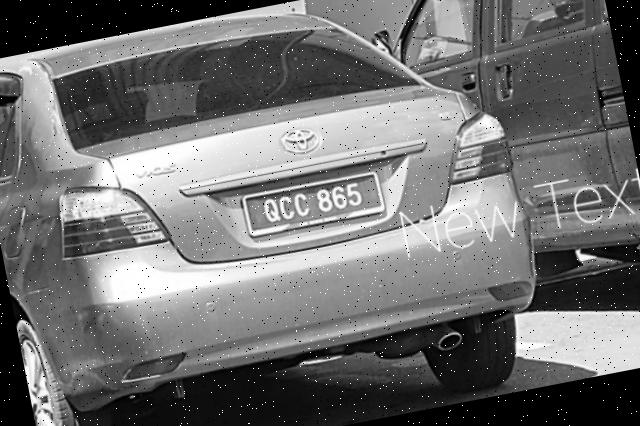License_Plate: (242, 171, 387, 240)
car: (1, 1, 567, 426)
